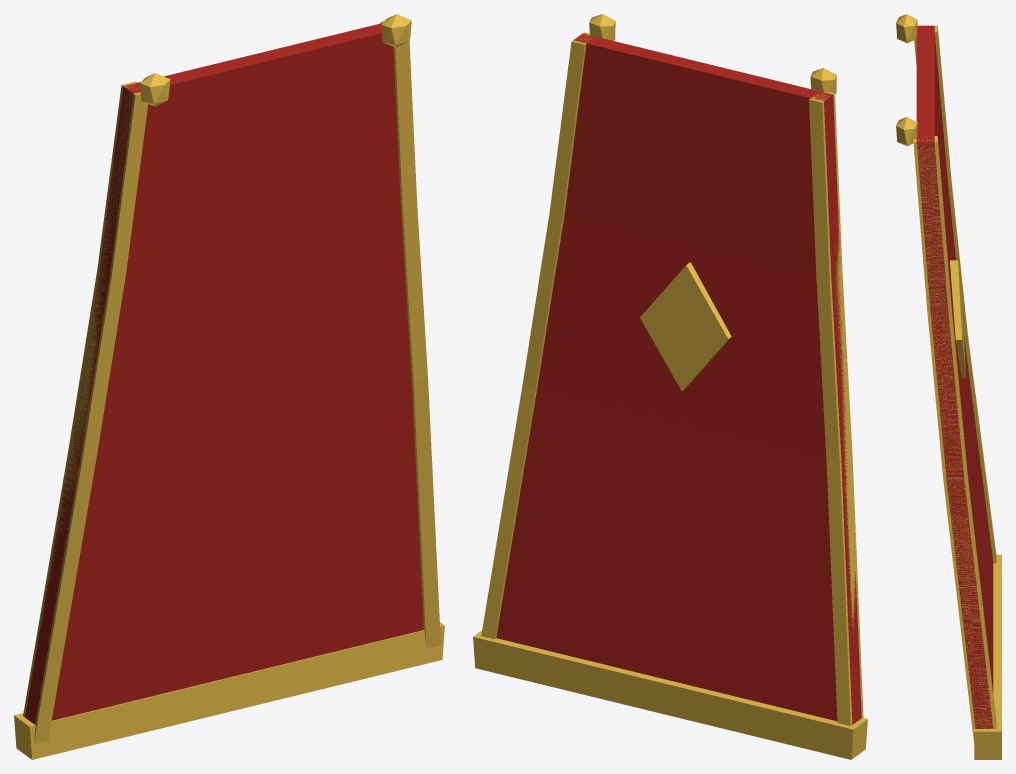
Rendered from gear_cape_attack.glb.
The picture shows the model from 3 angles, left to right: view 1: azimuth 30°, elevation 25°; view 2: azimuth 150°, elevation 25°; view 3: azimuth 270°, elevation 25°; orthographic projection. The views are drawn at different scales.
Parts seen in each view (by area): view 1: gear_cape_attack; view 2: gear_cape_attack; view 3: gear_cape_attack.
Part boxes in pixels (x1=…): gear_cape_attack: x1=14, y1=14, x2=444, y2=759; gear_cape_attack: x1=473, y1=14, x2=867, y2=759; gear_cape_attack: x1=896, y1=14, x2=1001, y2=759.
Size of the model in its own units: 0.516 by 0.825 by 0.1304.
